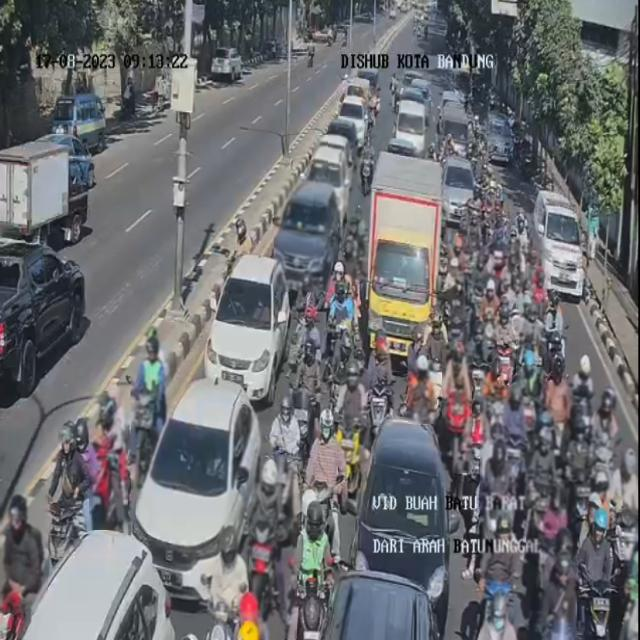bunch of motorcycle: (480, 367, 638, 640), (448, 237, 548, 358)
cars: (136, 372, 265, 621), (360, 420, 461, 640), (9, 532, 172, 640), (368, 162, 438, 359), (212, 256, 296, 406), (321, 572, 435, 640), (274, 176, 338, 292), (313, 136, 357, 220), (443, 155, 482, 226), (484, 110, 516, 174), (328, 116, 364, 168), (340, 92, 372, 150), (439, 104, 472, 158), (399, 101, 431, 156)
motorcycle: (249, 462, 297, 639), (131, 323, 173, 498), (576, 500, 624, 640), (294, 487, 334, 638), (0, 489, 48, 613), (480, 516, 526, 638), (50, 416, 88, 558), (89, 392, 128, 530), (442, 342, 472, 473), (300, 332, 325, 463), (339, 368, 370, 471), (367, 330, 394, 437), (331, 262, 361, 357), (299, 306, 329, 386), (546, 290, 569, 382), (343, 242, 365, 328), (408, 360, 437, 424), (498, 302, 518, 385), (347, 208, 368, 282), (485, 176, 504, 219), (410, 327, 430, 359)
